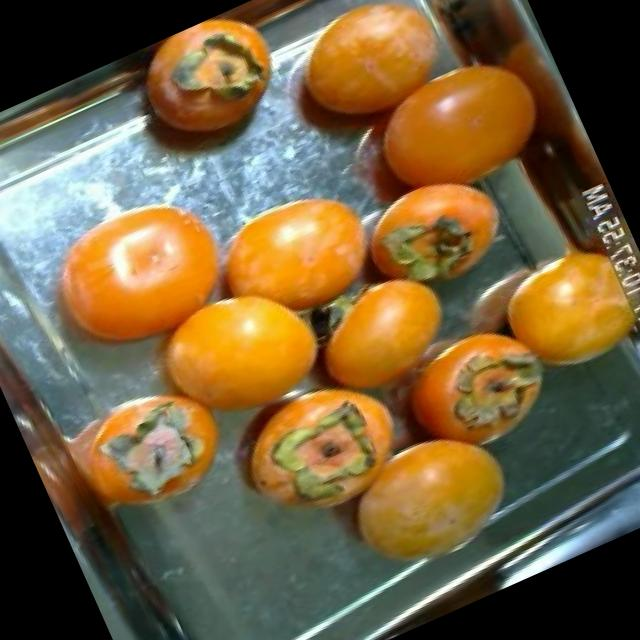Fruit: (182, 164, 418, 372), (314, 406, 542, 596), (240, 0, 487, 175), (101, 0, 315, 191), (279, 247, 490, 432), (335, 138, 541, 325), (463, 222, 640, 409), (236, 363, 406, 521)
